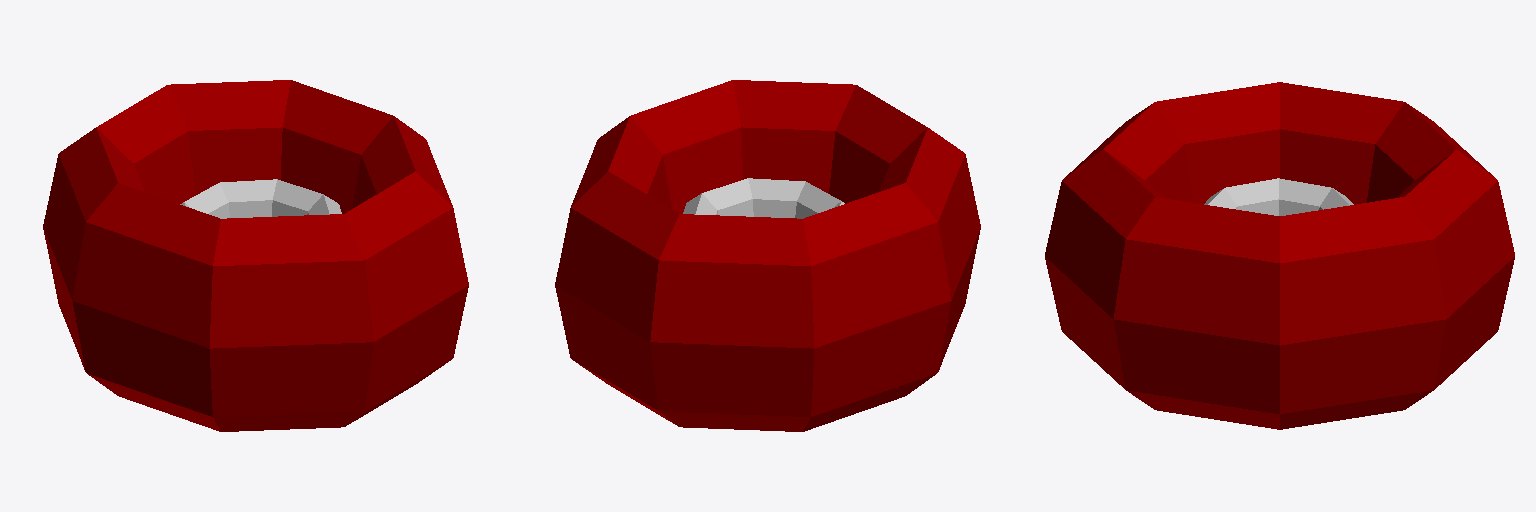
Rendered from portalPart.obj.
3 renders of one model, left to right at view 1: azimuth 30°, elevation 25°; view 2: azimuth 150°, elevation 25°; view 3: azimuth 270°, elevation 25°, orthographic.
Parts seen in each view (by area): view 1: ungrouped; view 2: ungrouped; view 3: ungrouped.
Boxes of the visible parts, <box> form: ungrouped: <box>43,80,468,431</box>; ungrouped: <box>555,80,980,431</box>; ungrouped: <box>1045,82,1514,429</box>.
Bounding box in the file's own units: 14.77 × 8.21 × 16.41.